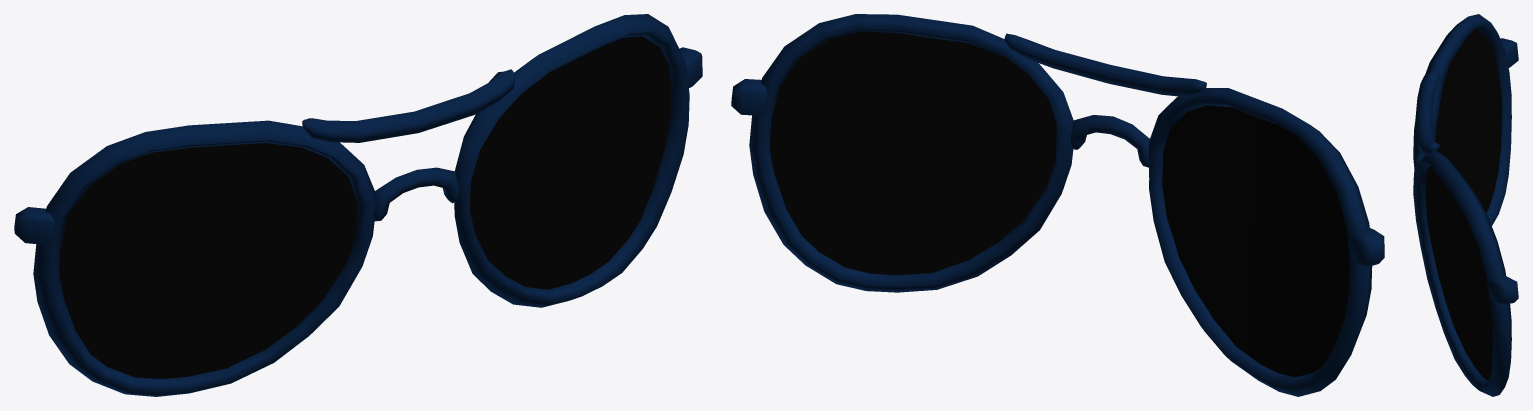
Rendered from AccessoryGlassDoublebridge3.glb.
3 views of the same model, side by side, from view 1: azimuth 30°, elevation 25°; view 2: azimuth 150°, elevation 25°; view 3: azimuth 270°, elevation 25° (orthographic). The views are drawn at different scales.
Parts seen in each view (by area): view 1: AccessoryAlpha1__mAccessoryAlpha, Accessory__mAccessory; view 2: AccessoryAlpha1__mAccessoryAlpha, Accessory__mAccessory; view 3: AccessoryAlpha1__mAccessoryAlpha, Accessory__mAccessory.
Boxes of the visible parts, <box> form: AccessoryAlpha1__mAccessoryAlpha: <box>59,36,671,378</box>; Accessory__mAccessory: <box>14,14,702,396</box>; AccessoryAlpha1__mAccessoryAlpha: <box>769,31,1349,377</box>; Accessory__mAccessory: <box>731,14,1384,396</box>; AccessoryAlpha1__mAccessoryAlpha: <box>1425,29,1502,380</box>; Accessory__mAccessory: <box>1413,14,1518,396</box>.
Size of the model in its own units: 6.39 by 2.5 by 1.14.
Materials: 2 (2 with a texture image).
